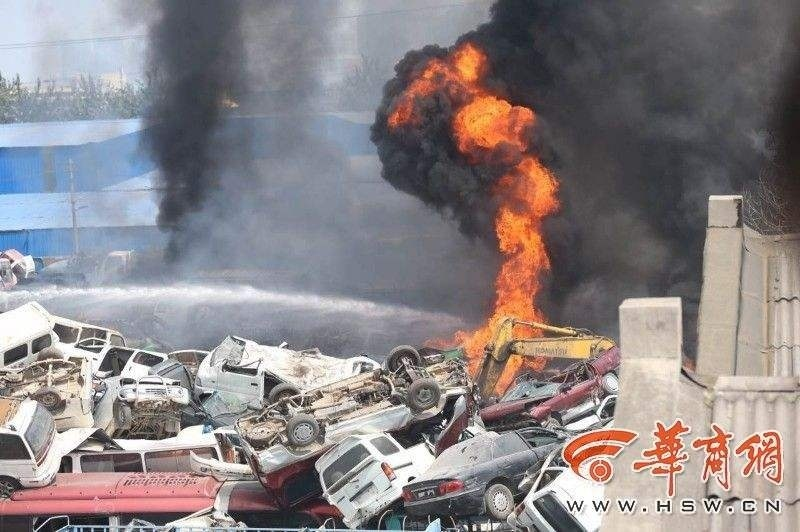fire: (411, 37, 566, 374)
